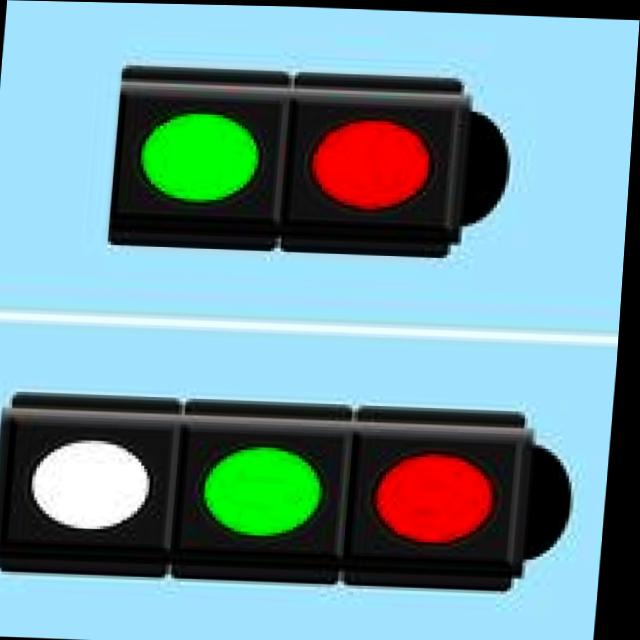green_light: (77, 32, 288, 254)
red_light: (272, 59, 474, 243), (363, 409, 540, 589)
yellow_light: (175, 411, 333, 571)
